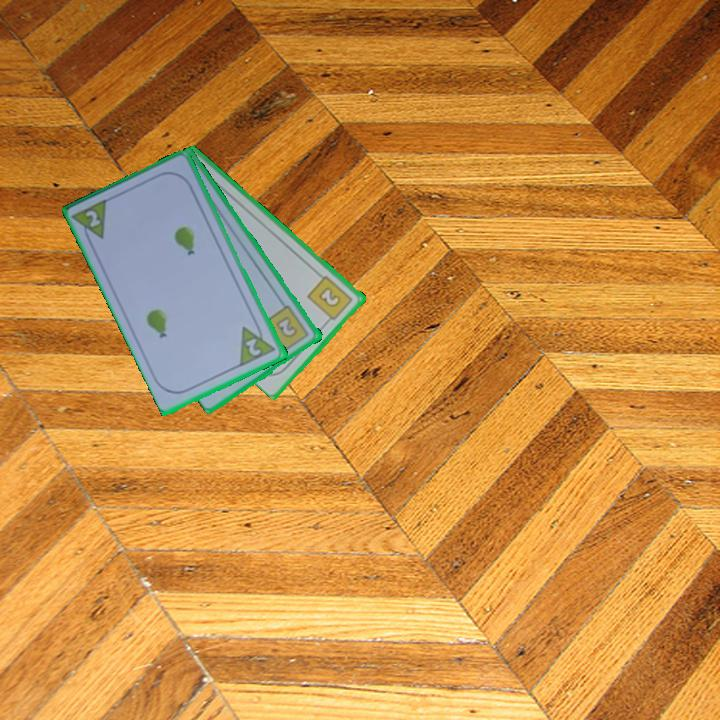2b: (304, 272, 356, 326), (262, 302, 312, 355)
2p: (70, 195, 112, 248), (236, 318, 279, 369)
